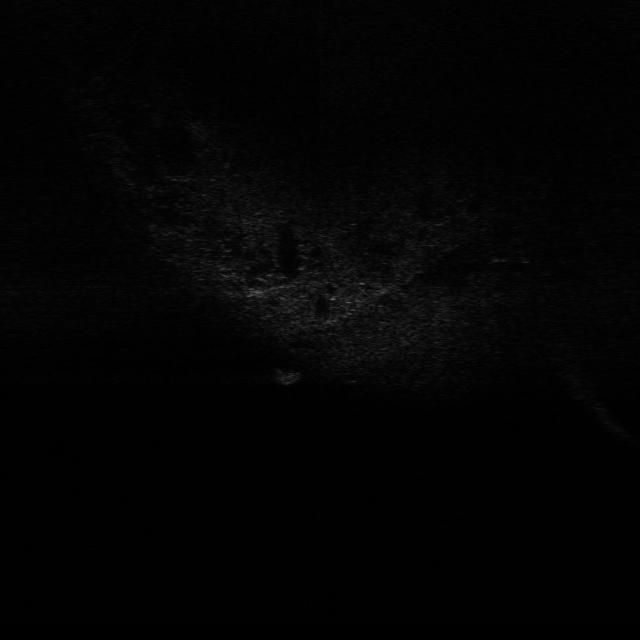cube: (268, 365, 306, 389)
